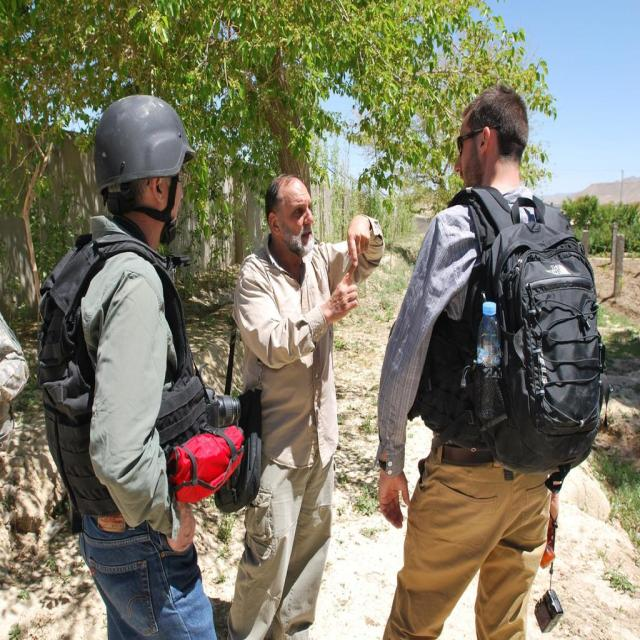backpack: (438, 187, 604, 466)
